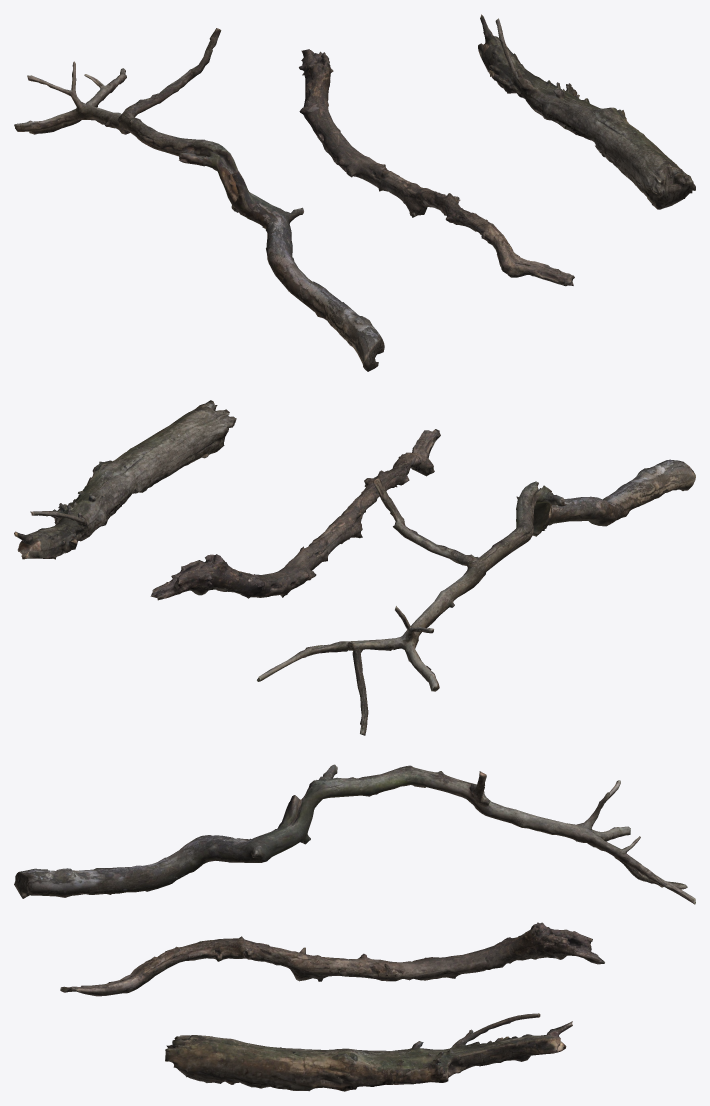
File: dry_branches_medium_01_1k_md.glb
The picture shows the model from 3 angles, top to bottom: view 1: azimuth 30°, elevation 25°; view 2: azimuth 150°, elevation 25°; view 3: azimuth 270°, elevation 25°; orthographic projection. The views are drawn at different scales.
Parts seen in each view (by area): view 1: dry_branches_medium_01_a, dry_branches_medium_01_c, dry_branches_medium_01_b; view 2: dry_branches_medium_01_a, dry_branches_medium_01_c, dry_branches_medium_01_b; view 3: dry_branches_medium_01_a, dry_branches_medium_01_c, dry_branches_medium_01_b.
Part boxes in pixels (box(x1,y1,x2,y2)): dry_branches_medium_01_a: box(14, 28, 384, 371); dry_branches_medium_01_c: box(478, 14, 695, 209); dry_branches_medium_01_b: box(299, 49, 574, 286); dry_branches_medium_01_a: box(257, 459, 695, 735); dry_branches_medium_01_c: box(14, 400, 236, 559); dry_branches_medium_01_b: box(150, 429, 440, 600); dry_branches_medium_01_a: box(14, 764, 695, 904); dry_branches_medium_01_c: box(165, 1013, 572, 1091); dry_branches_medium_01_b: box(60, 922, 604, 996).
Bounding box in the file's own units: 1.06 × 0.341 × 1.3.
Materials: 1 (1 with a texture image).
